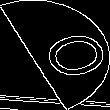O_SW: (12, 25, 98, 85)
